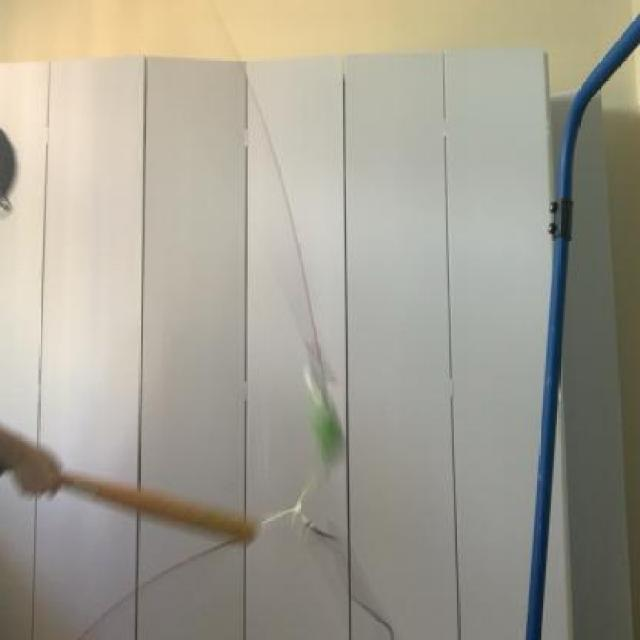baseball: (308, 406, 342, 471)
